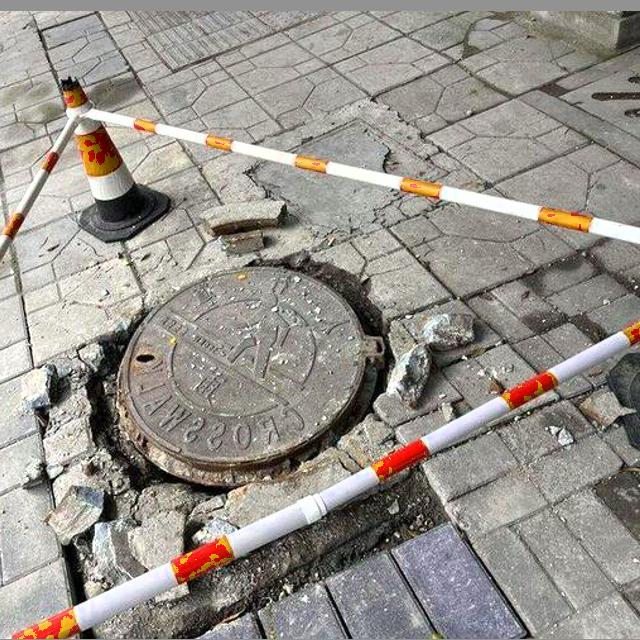circle: (47, 227, 454, 617)
